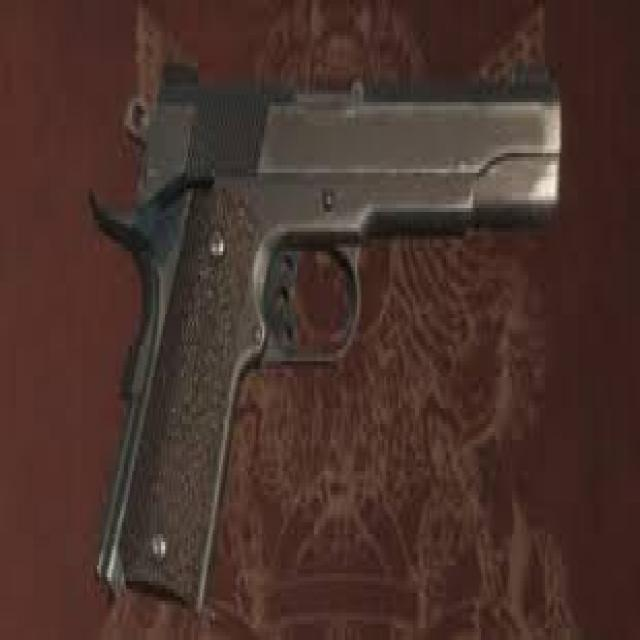semi automatic: (76, 36, 569, 626)
